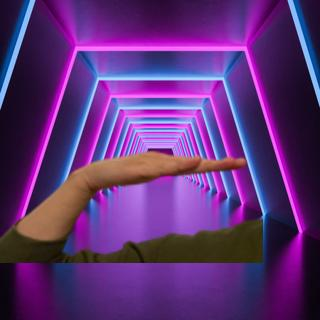WAIT: (76, 147, 250, 191)
